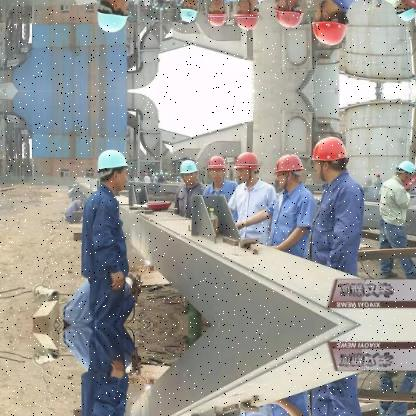helmet: (309, 0, 353, 47), (309, 132, 352, 180), (94, 145, 133, 190), (94, 0, 134, 34), (274, 150, 307, 188), (274, 0, 308, 29), (236, 147, 261, 181), (236, 0, 262, 32), (207, 0, 228, 29), (208, 150, 228, 180), (394, 156, 415, 183), (180, 156, 201, 182), (180, 0, 202, 23), (394, 0, 416, 23)
